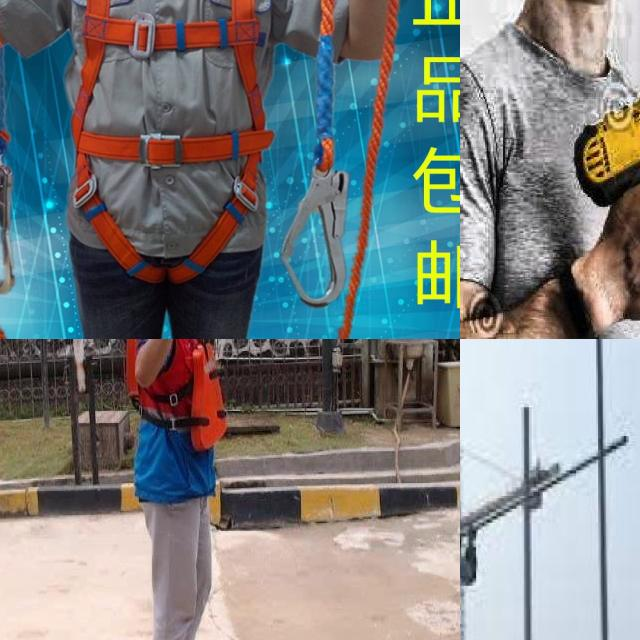Harness: (65, 0, 275, 286)
hand_noglove: (572, 185, 640, 333)
person: (84, 339, 261, 640)
vest: (115, 339, 238, 483)
